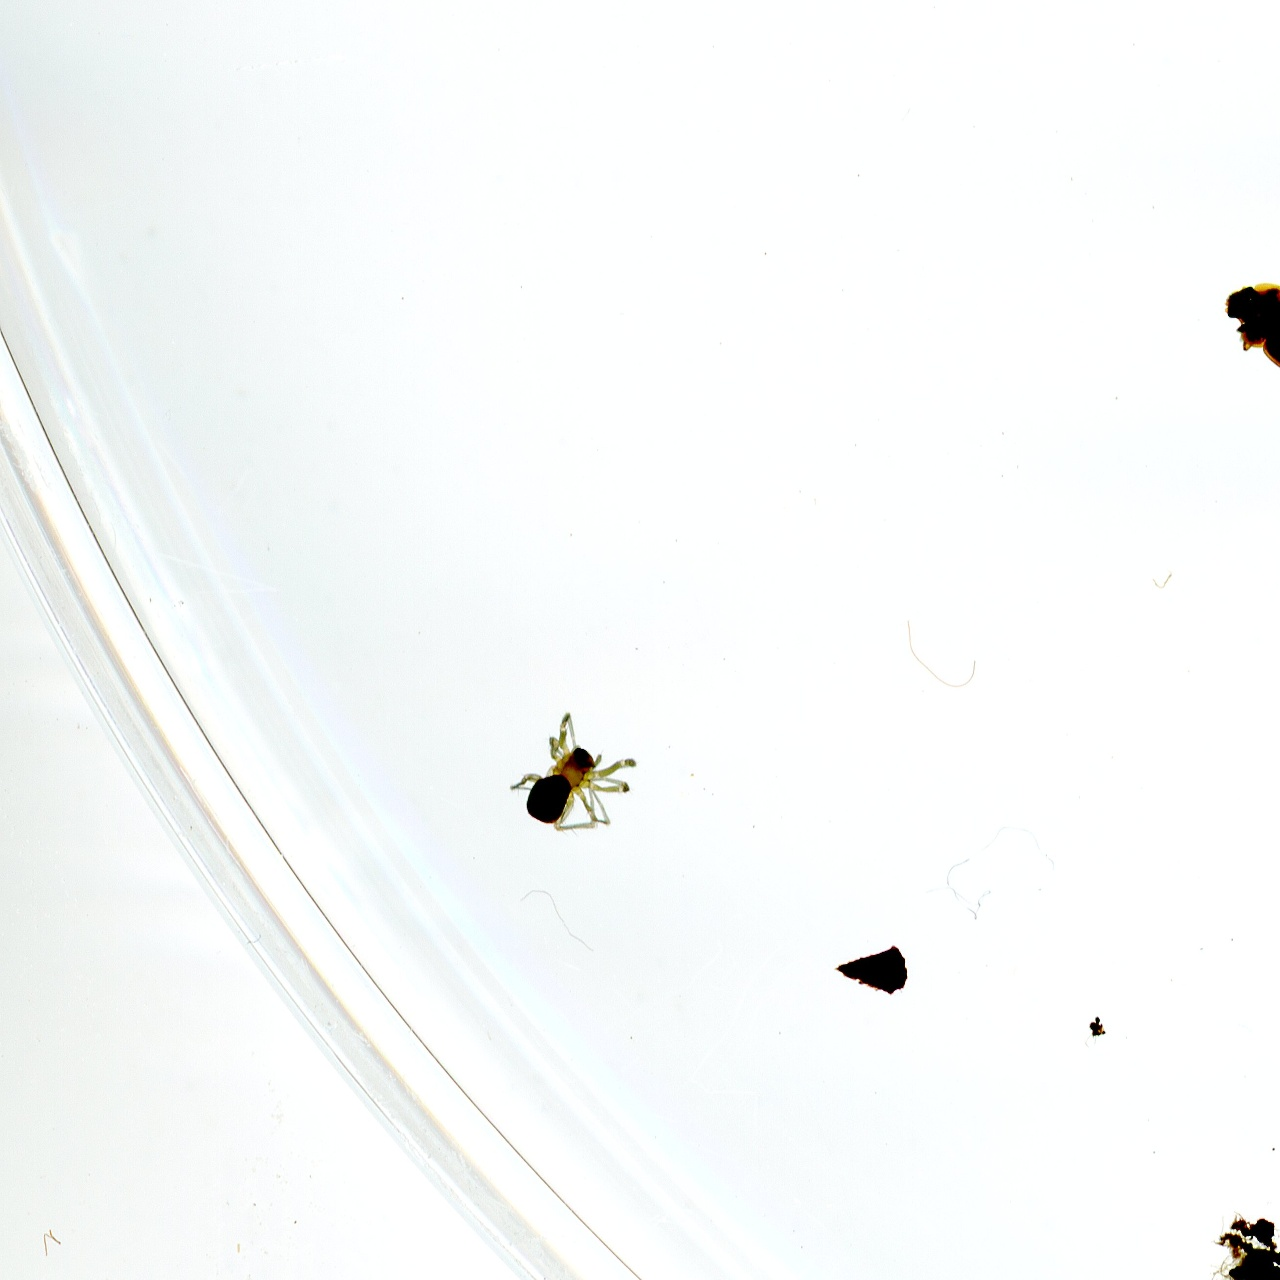arthropod: (495, 695, 656, 858), (1200, 252, 1280, 409)
